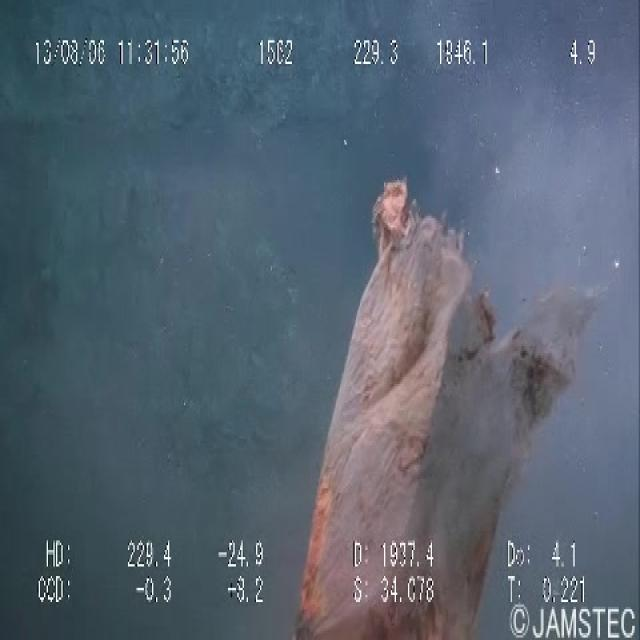plastic: (272, 147, 620, 638)
